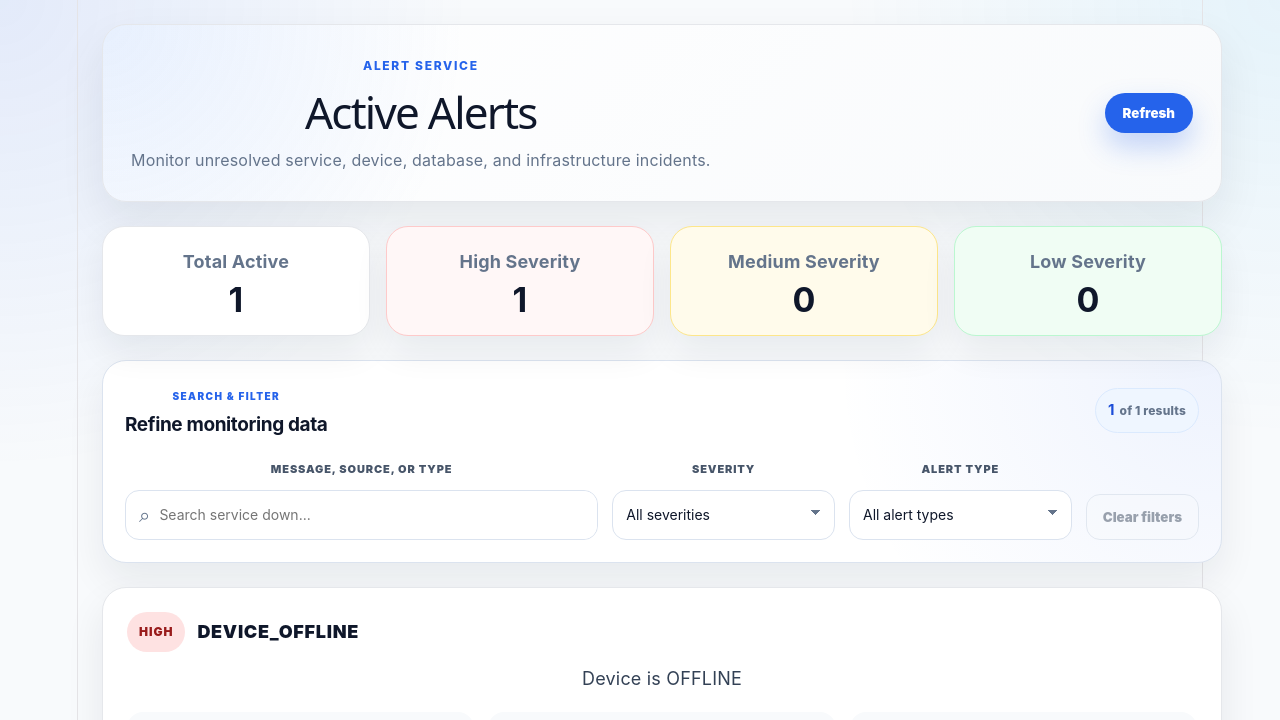
Test: AlertsPage › shows an empty state when filters have no matches
Check: the text "DEVICE_OFFLINE" is shown, box left=197, top=619, right=359, bottom=645
In the search field labelled "Message, source, or type": (378, 515) left=159, top=491, right=597, bottom=539, type "database"
(page scrolled)
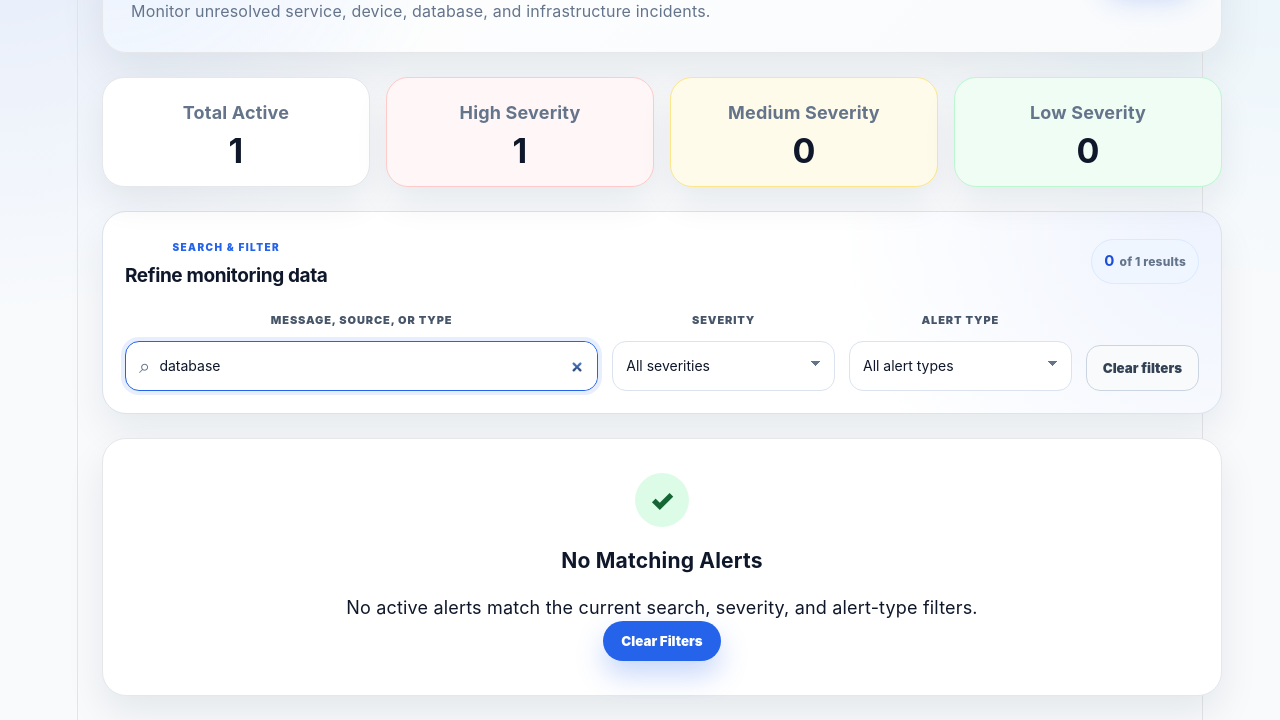
Check: the heading "No Matching Alerts" is shown, box left=561, top=548, right=763, bottom=573
